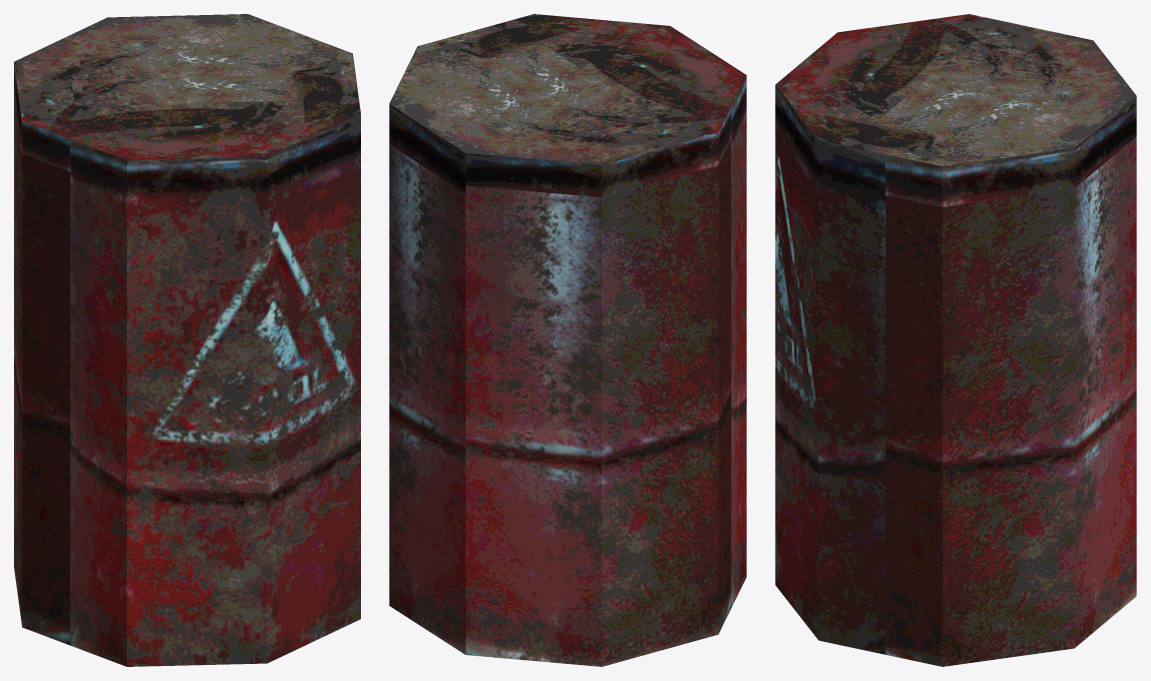
File: LatadeOleo.fbx
3 views of the same model, side by side, from view 1: azimuth 30°, elevation 25°; view 2: azimuth 150°, elevation 25°; view 3: azimuth 270°, elevation 25° (orthographic).
Parts seen in each view (by area): view 1: Cylinder.004; view 2: Cylinder.004; view 3: Cylinder.004.
Boxes of the visible parts, x1,y1,x2,y2 form: Cylinder.004: (14,14,360,666); Cylinder.004: (389,14,746,666); Cylinder.004: (775,14,1136,666).
Bounding box in the file's own units: 80.07 × 122 × 80.07.
1 material, 1 textured.
